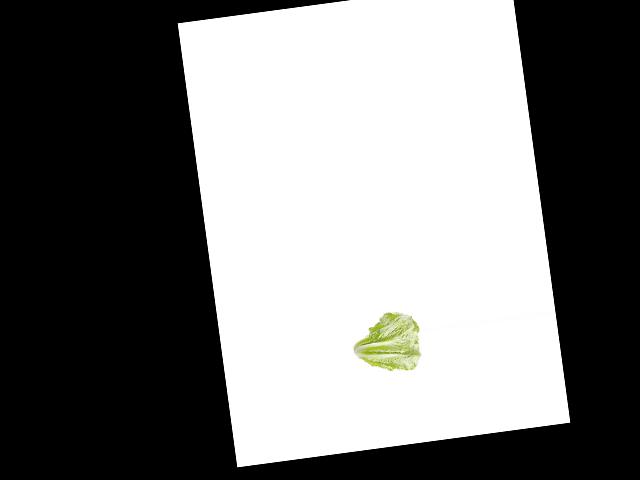lettuce: (345, 306, 425, 375)
